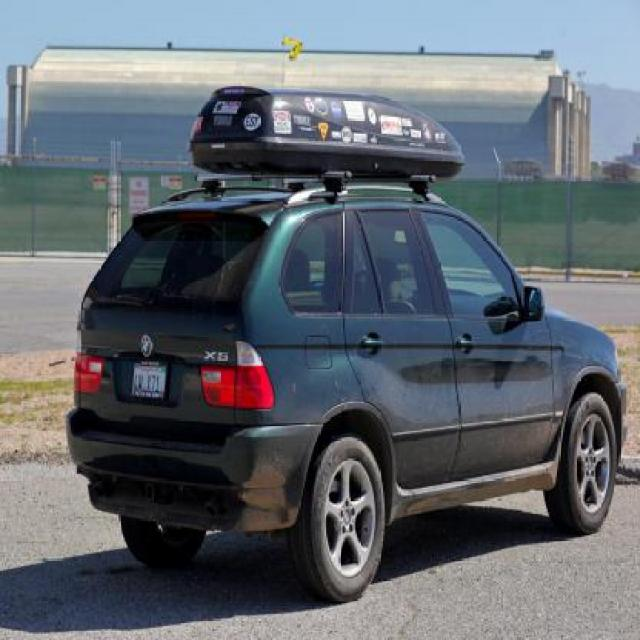License-Plates: (132, 360, 167, 400)
